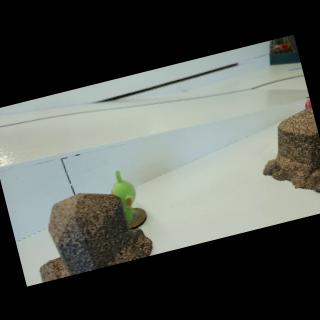teletubby: (111, 170, 136, 221), (305, 99, 312, 109)
